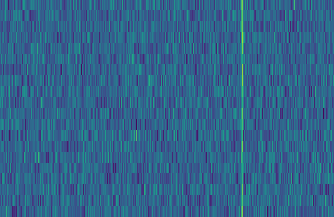signal: (238, 0, 247, 217)
